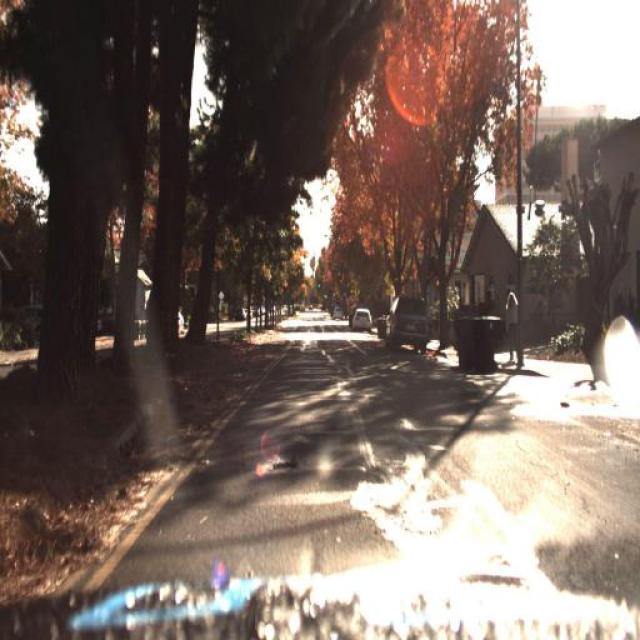car: (380, 292, 430, 358), (350, 305, 376, 336), (352, 305, 372, 340)
trafficLight: (502, 283, 523, 368), (502, 289, 520, 360)
